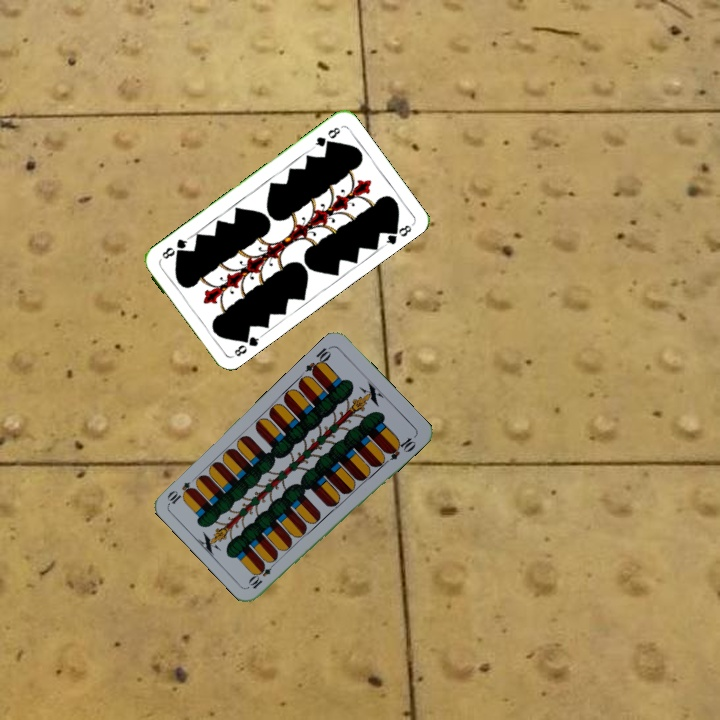E10: (301, 342, 334, 378), (245, 557, 279, 591)
G8: (230, 330, 264, 359), (309, 123, 343, 151)
